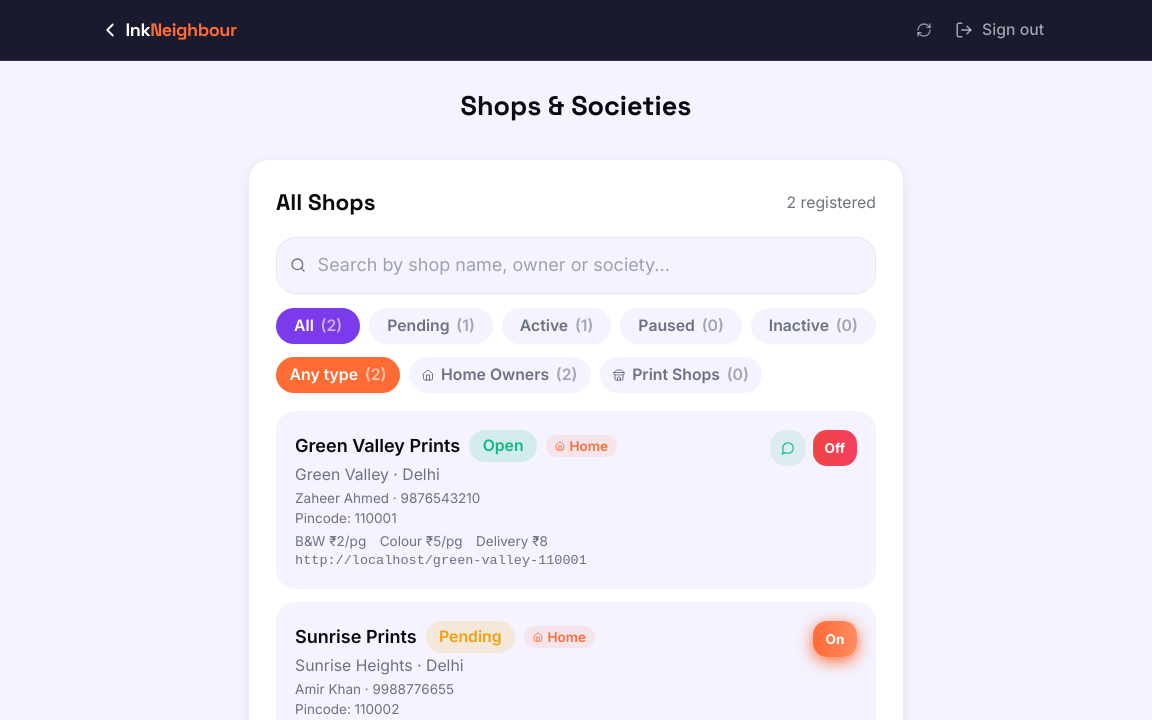
Test: AdminDirectory — filtering › filters shops by search query
Expected: the text "Green Valley Prints" is shown, [295, 432, 460, 460]
In the field with placeholder "Search by shop name, owner or society...": (576, 265) [276, 236, 876, 294], type "Sunrise"
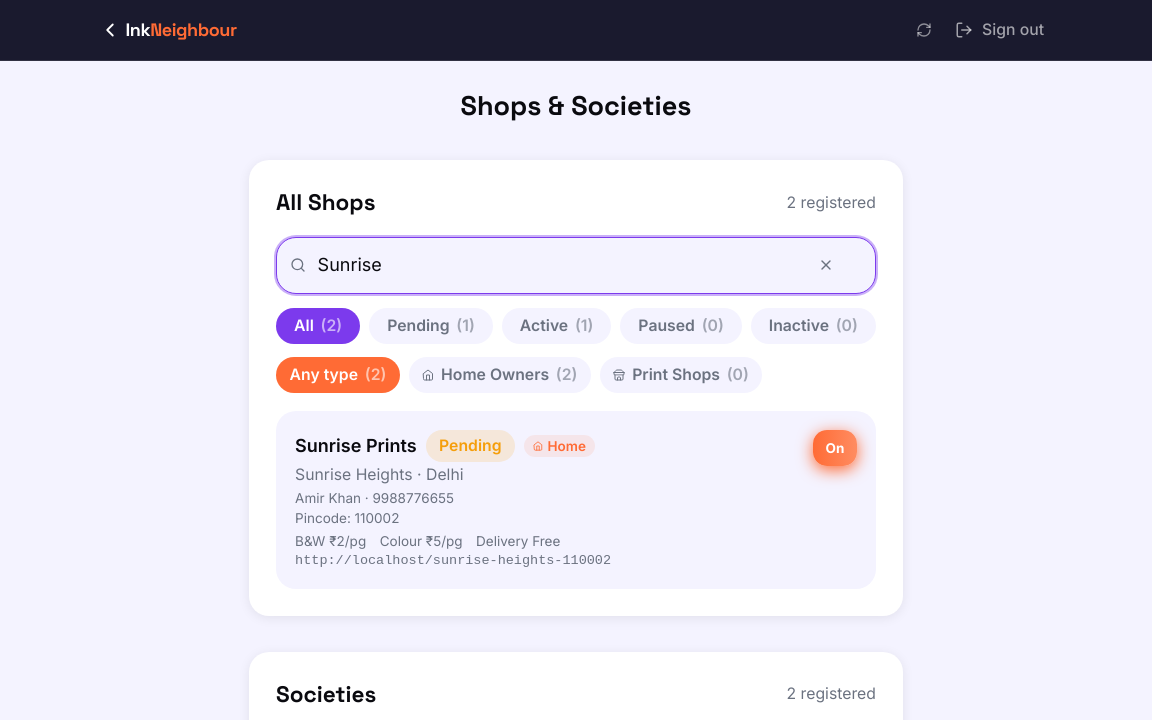
Expected: the text "Sunrise Prints" is shown, [295, 432, 417, 460]
Expected: the text "Green Valley Prints" is gone
